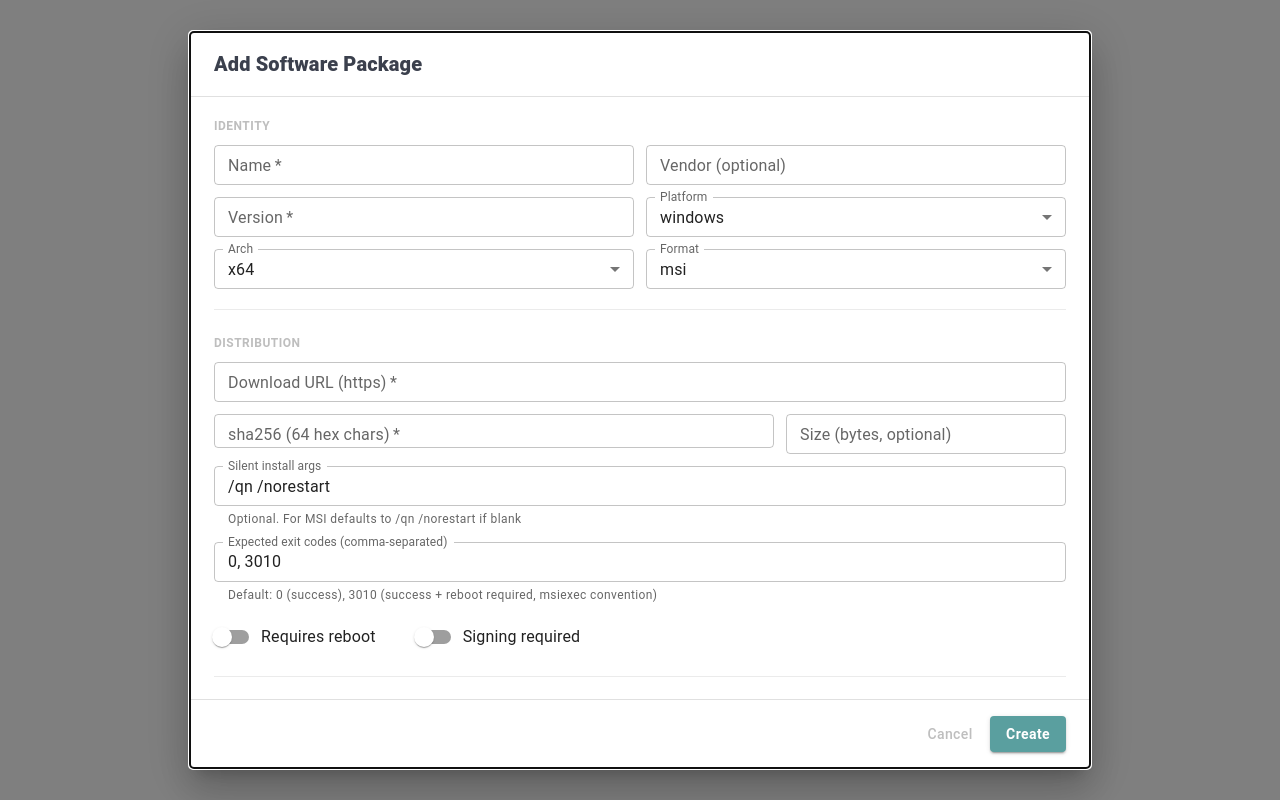
Scenario: PackageDialog — platform ⇄ format conditioning › defaults to windows → msi/exe format options
Click the dropdown named "Format" at [673, 269], box [660,260,687,278]
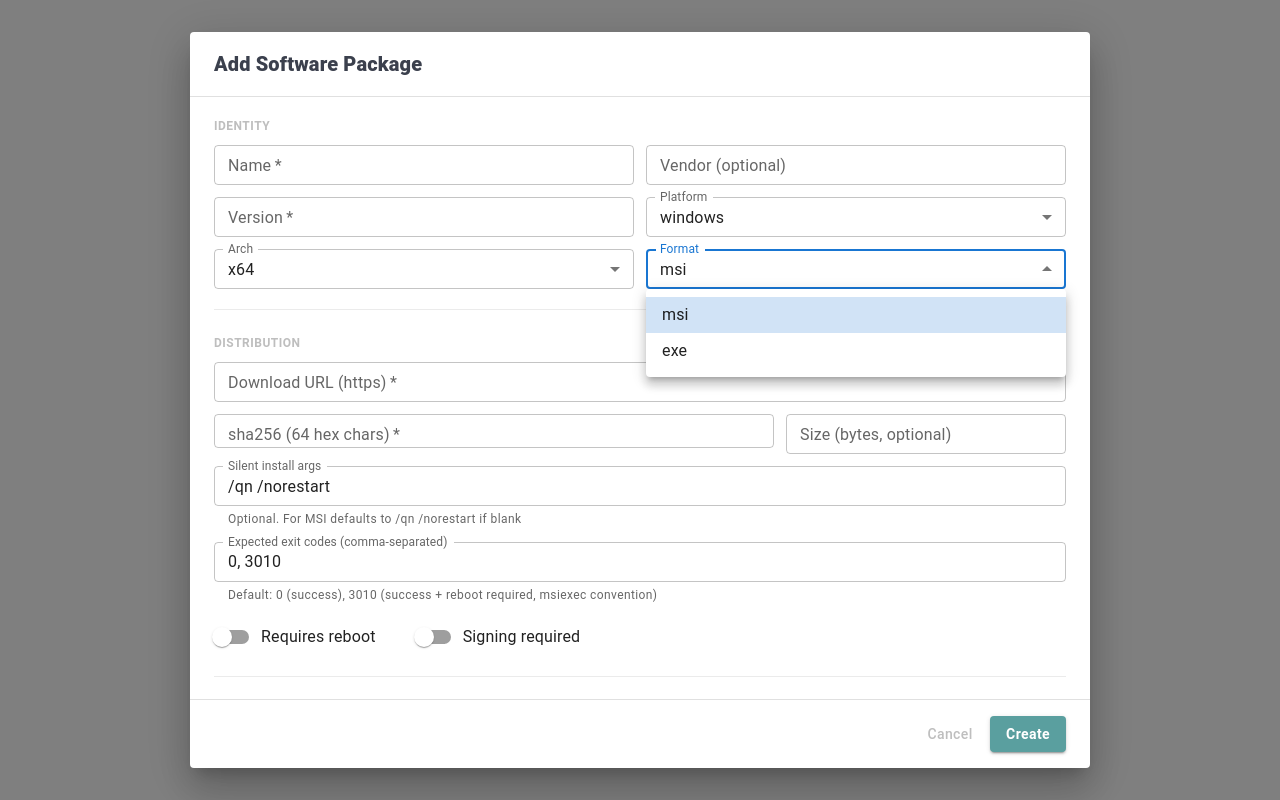
Now the option "msi" is shown, box [646,297,1066,333]
Now the option "exe" is shown, box [662,341,687,360]
